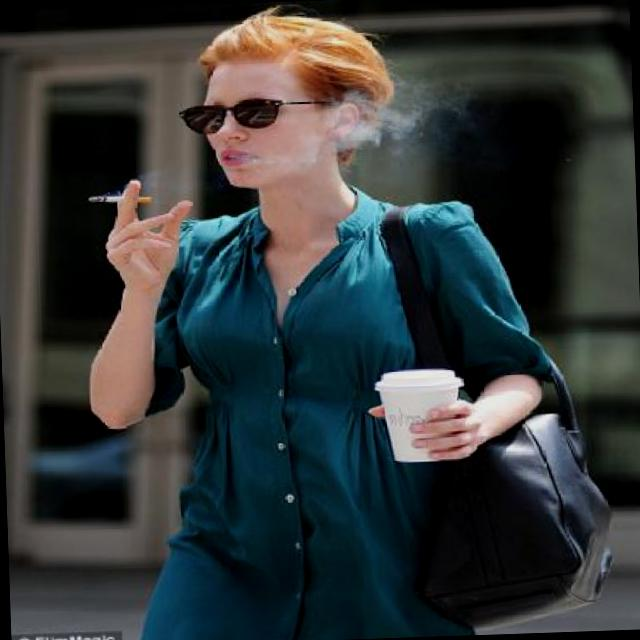cigarette: (76, 184, 152, 212)
